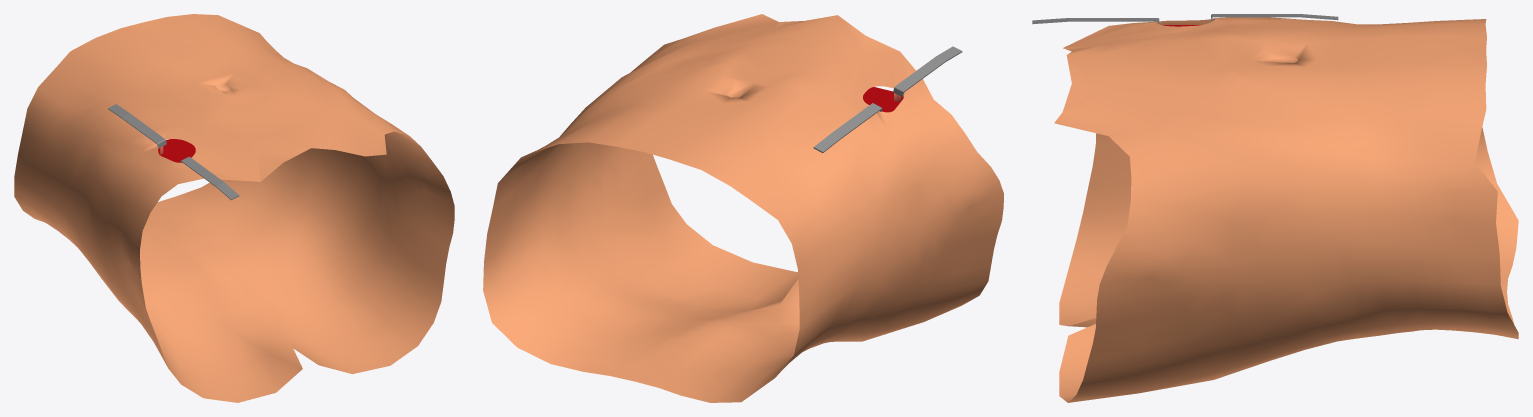
The model's file is AbdomenAbierto.gltf.
The picture shows the model from 3 angles, left to right: view 1: azimuth 30°, elevation 25°; view 2: azimuth 150°, elevation 25°; view 3: azimuth 270°, elevation 25°; orthographic projection. The views are drawn at different scales.
Parts seen in each view (by area): view 1: human_male_base03.003, human_male_base03.007; view 2: human_male_base03.003, human_male_base03.007; view 3: human_male_base03.003, human_male_base03.007.
Part boxes in pixels (x1,y1,x2,y2): human_male_base03.003: (14,14,454,402); human_male_base03.007: (108,104,239,200); human_male_base03.003: (483,14,1003,402); human_male_base03.007: (813,46,962,152); human_male_base03.003: (1054,17,1518,402); human_male_base03.007: (1032,14,1338,24).
Size of the model in its own units: 4.82 by 3.5 by 5.17.
